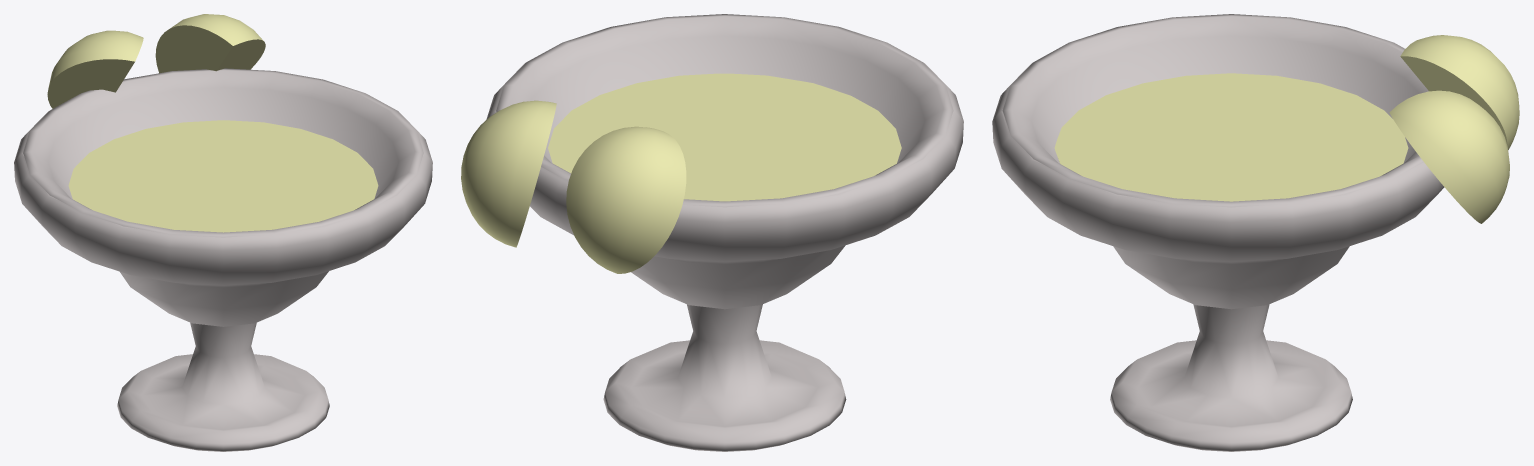
File: yellow cocktail.fbx
3 views of the same model, side by side, from view 1: azimuth 30°, elevation 25°; view 2: azimuth 150°, elevation 25°; view 3: azimuth 270°, elevation 25° (orthographic). The views are drawn at different scales.
Visible parts, largest first — view 1: nurbsToPoly1, pCylinder1, pasted__pSphere1, pSphere1; view 2: nurbsToPoly1, pCylinder1, pSphere1, pasted__pSphere1; view 3: nurbsToPoly1, pCylinder1, pasted__pSphere1, pSphere1.
Part boxes in pixels (x1,y1,x2,y2): nurbsToPoly1: (14,68,432,451); pCylinder1: (68,120,378,232); pasted__pSphere1: (155,14,265,73); pSphere1: (47,30,143,108); nurbsToPoly1: (486,14,963,451); pCylinder1: (548,73,901,201); pSphere1: (566,126,686,273); pasted__pSphere1: (461,100,556,247); nurbsToPoly1: (992,14,1444,451); pCylinder1: (1054,73,1408,201); pasted__pSphere1: (1389,90,1509,223); pSphere1: (1400,35,1519,149).
Size of the model in its own units: 6.28 by 5.15 by 6.92.
